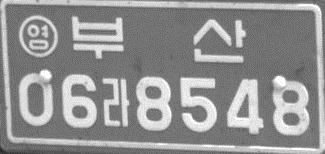0: (16, 69, 53, 126)
4: (226, 78, 263, 134)
5: (178, 75, 216, 134)
6: (61, 72, 97, 129)
8: (270, 78, 310, 136), (135, 75, 173, 132)
라: (101, 78, 131, 128)
부산_D: (71, 15, 247, 63)
영: (17, 13, 58, 58)
